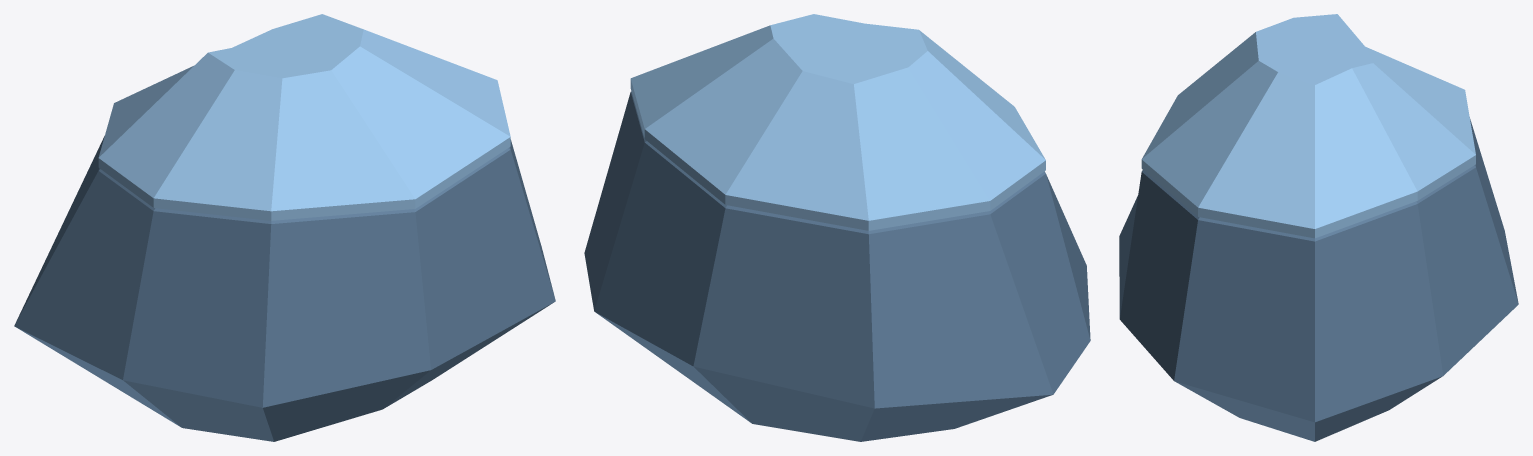
The model's file is rock_round.glb.
3 views of the same model, side by side, from view 1: azimuth 30°, elevation 25°; view 2: azimuth 150°, elevation 25°; view 3: azimuth 270°, elevation 25° (orthographic). The views are drawn at different scales.
Parts seen in each view (by area): view 1: Near; view 2: Near; view 3: Near.
Part boxes in pixels (left/top/right/bottom): Near: left=14, top=14, right=555, bottom=441; Near: left=584, top=14, right=1090, bottom=441; Near: left=1119, top=14, right=1518, bottom=441.
Bounding box in the file's own units: 2.39 × 1.59 × 1.75.
